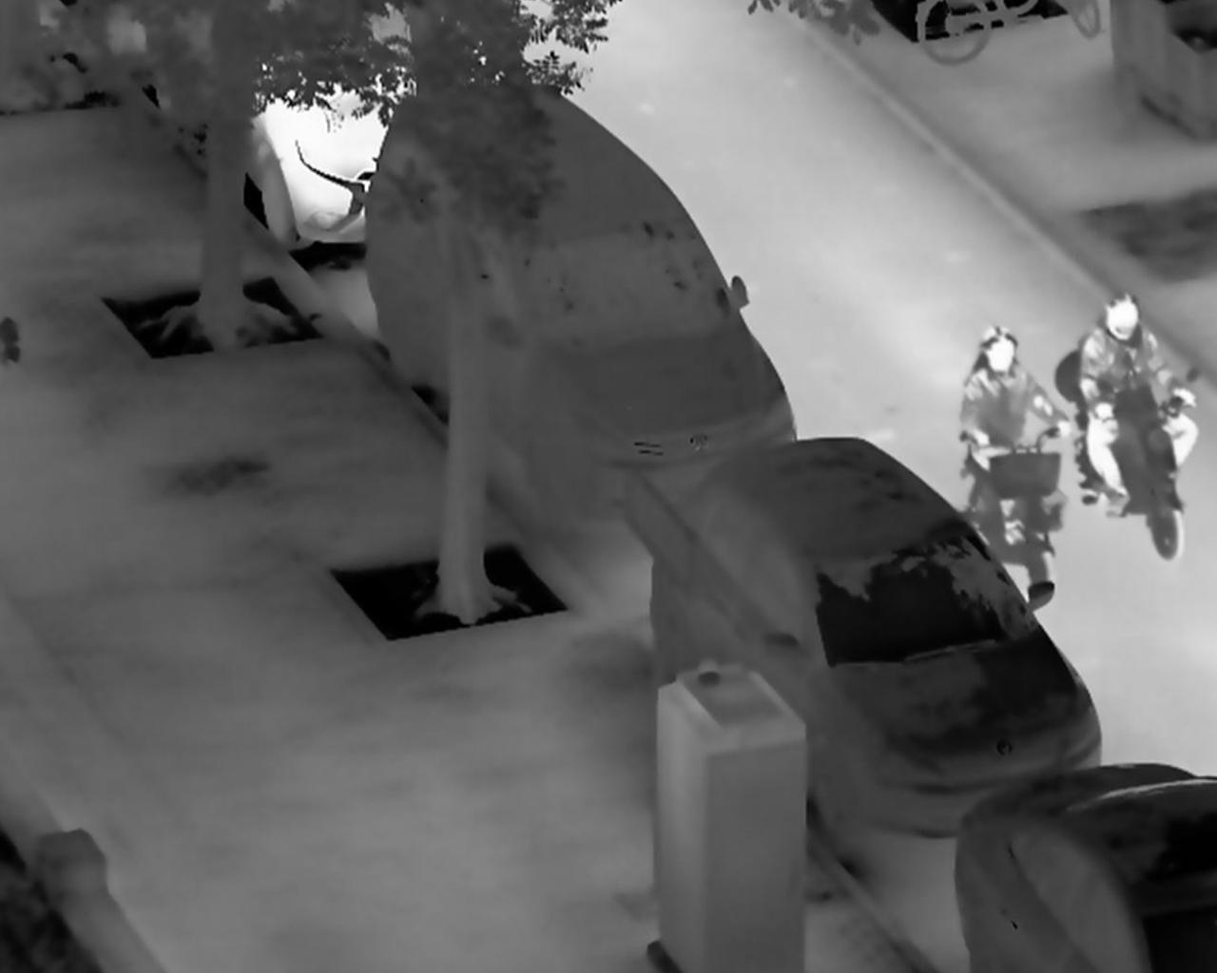person: (1079, 289, 1202, 524), (956, 323, 1074, 475)
